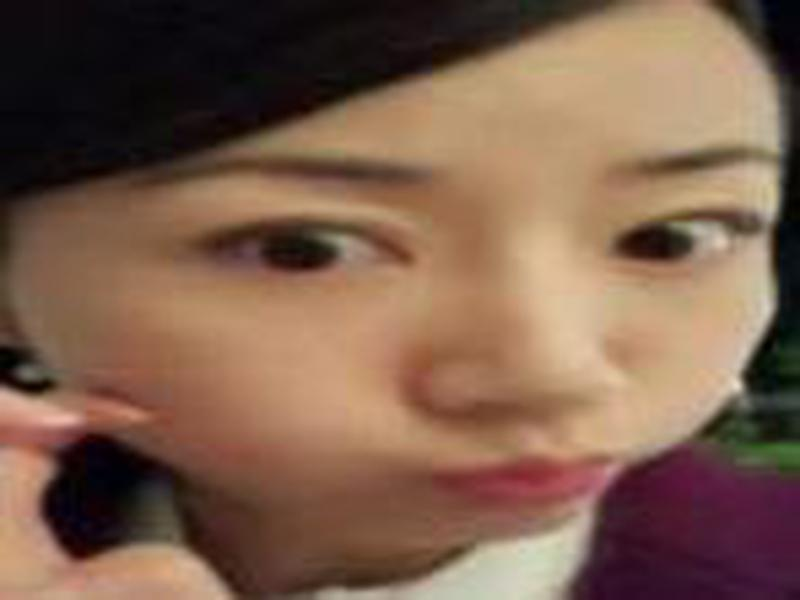without_mask: (17, 68, 787, 540)
